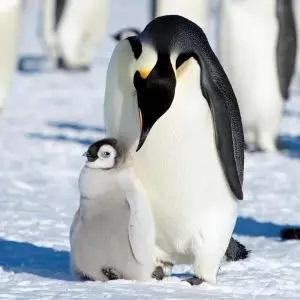emporer: (88, 4, 260, 289)
